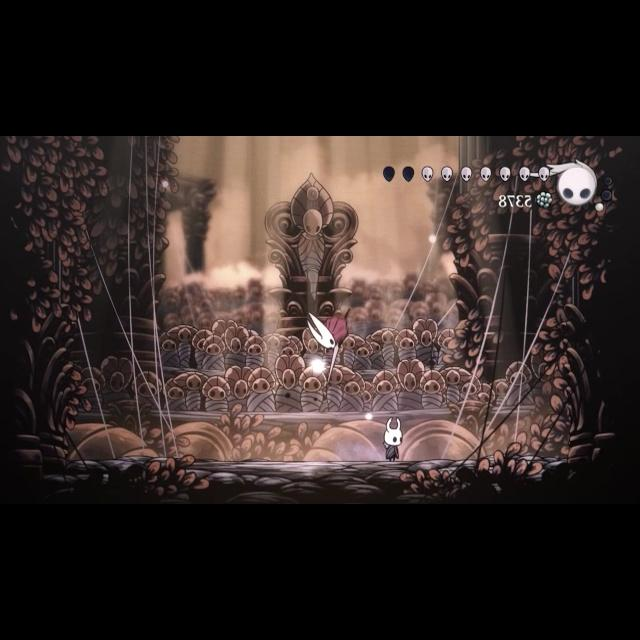EnemyAirAttack: (304, 302, 352, 388)
Player: (379, 407, 408, 463)
